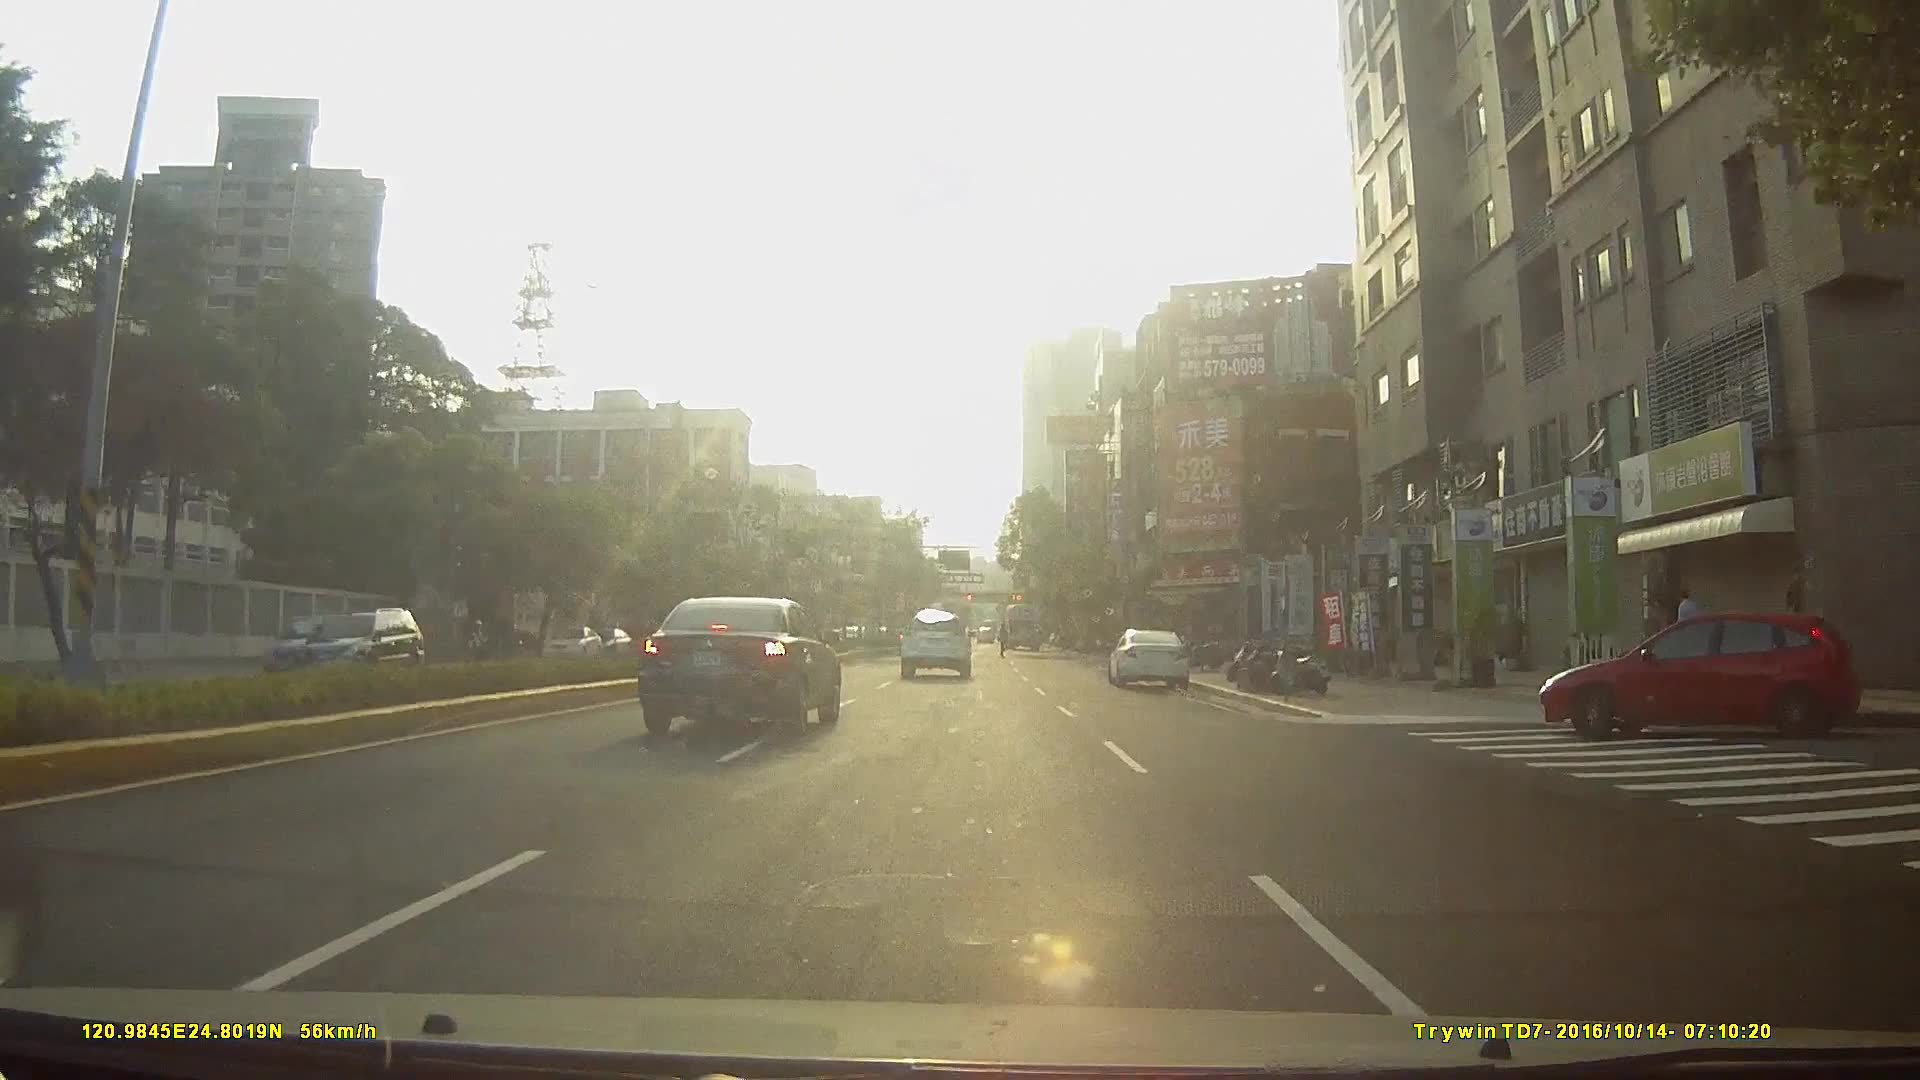pedestrian: (1673, 588, 1706, 680)
rider: (463, 616, 494, 665)
vehicle: (1531, 605, 1864, 744), (642, 595, 844, 737), (273, 604, 411, 678), (1107, 626, 1196, 690), (898, 608, 972, 679), (263, 614, 340, 676), (999, 601, 1045, 652), (541, 624, 602, 659)
